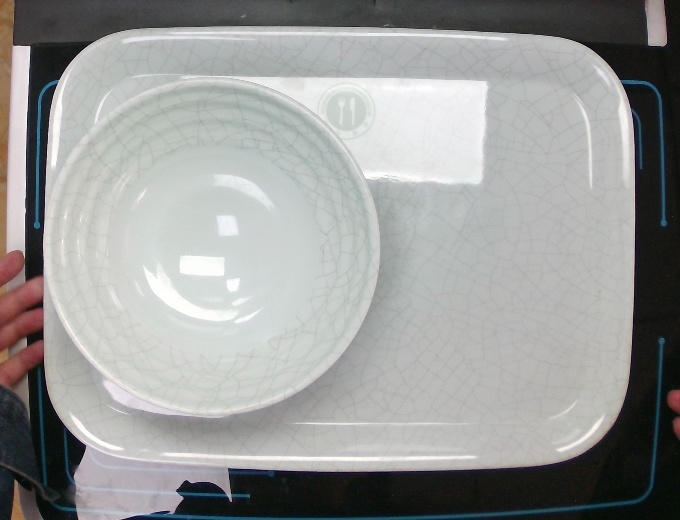JYsf-Da_Tang_Wan: (43, 74, 380, 417)
